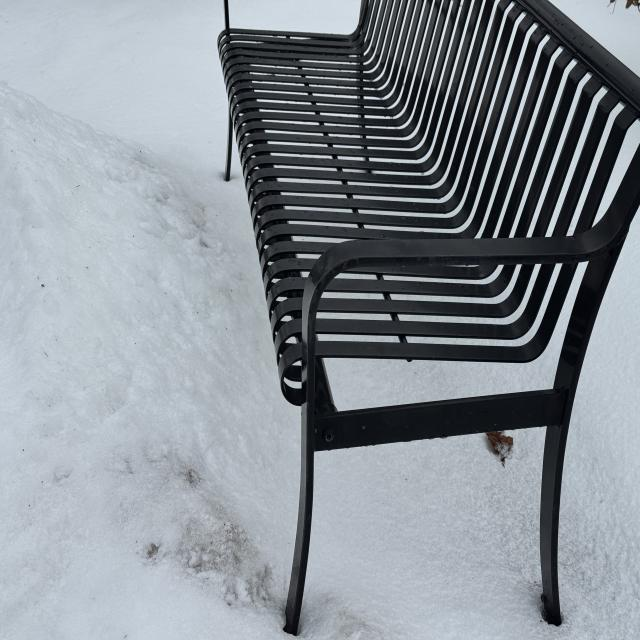Bench: (212, 4, 638, 632)
